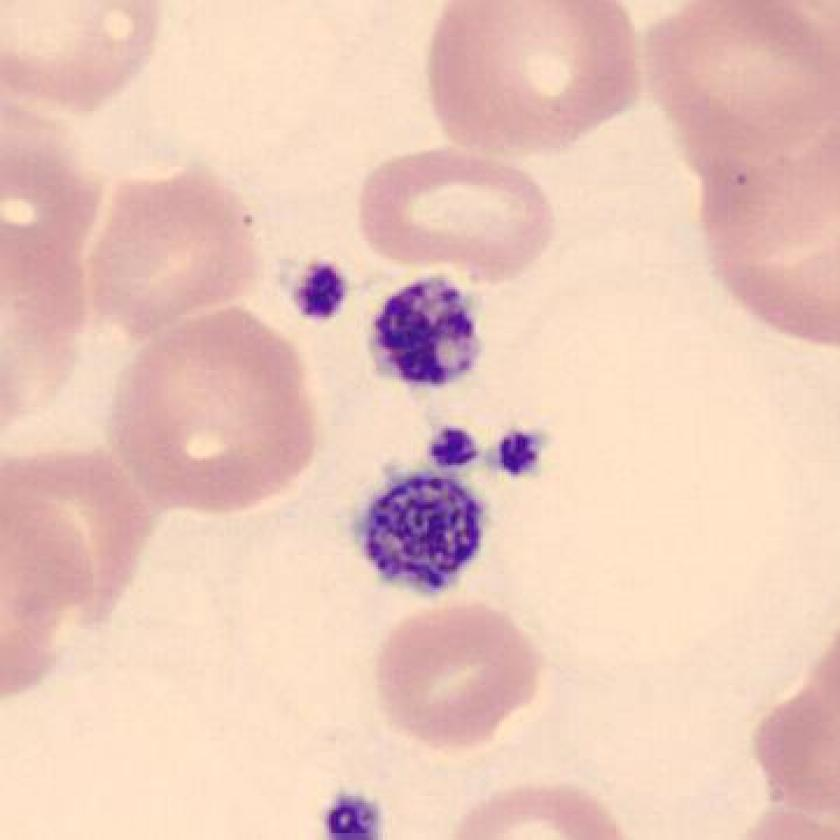platelets: (344, 461, 498, 605), (368, 267, 487, 408), (281, 246, 360, 346), (302, 778, 400, 840), (480, 418, 557, 485), (424, 420, 487, 485)
